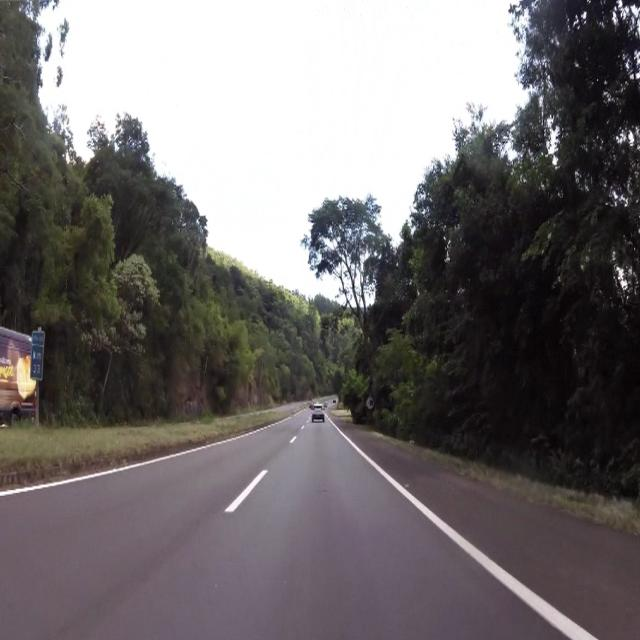R-27: (365, 395, 375, 412)
RQ: (31, 330, 44, 380)
